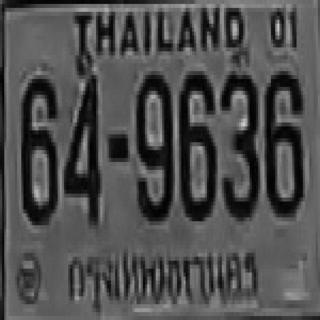N03: (220, 71, 258, 217)
N04: (63, 71, 99, 221)
N06: (262, 67, 303, 213), (177, 67, 213, 217), (19, 75, 55, 221)
N09: (134, 71, 171, 217)
P04: (67, 244, 260, 312)
